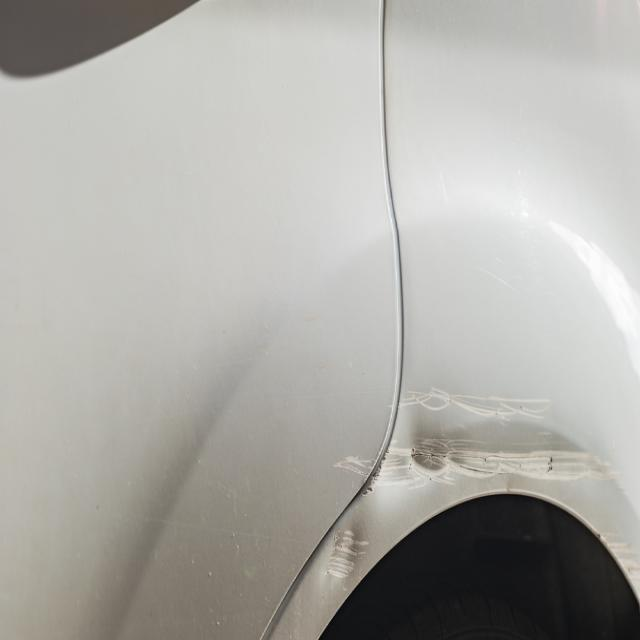dent: (374, 416, 598, 488), (328, 524, 363, 579)
scratch: (400, 385, 552, 422), (599, 530, 640, 596), (330, 451, 377, 477)
